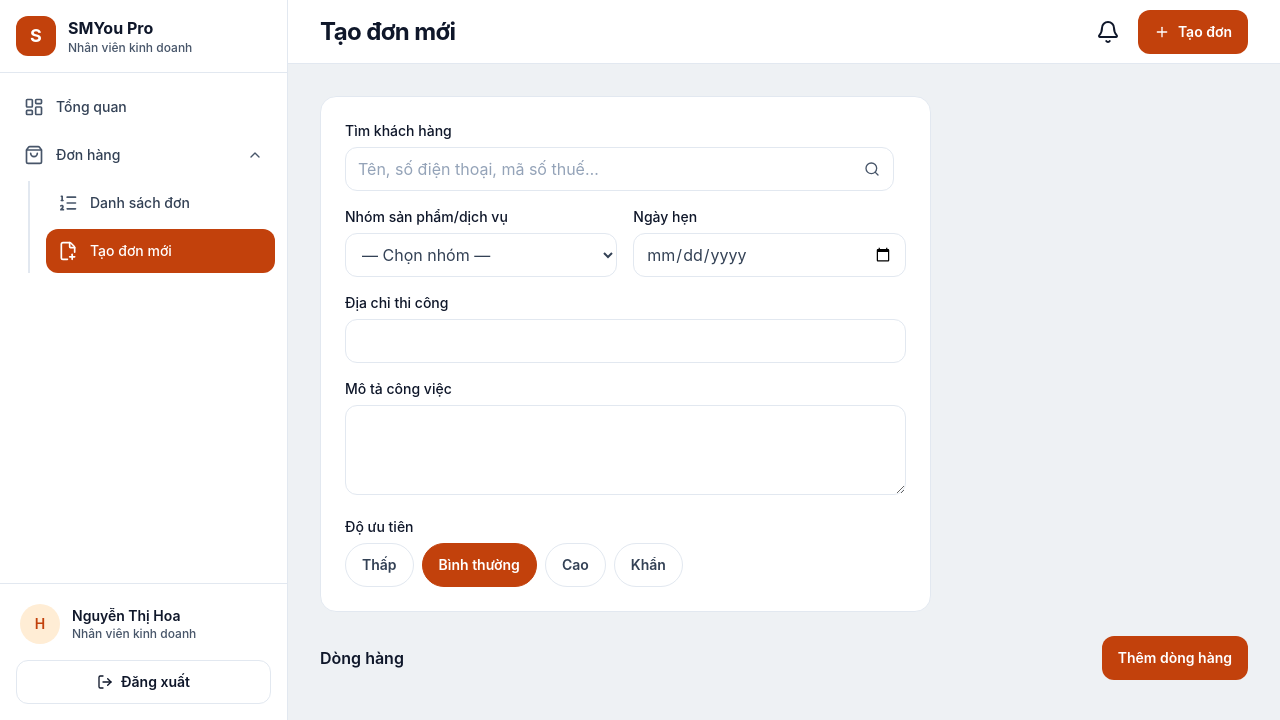
Test case: AC-ORD-158..166 disable Lưu nháp/Gửi đơn khi thiếu thông tin › AC-ORD-160 có 1 dòng hàng, chưa chọn khách → disabled, helper chỉ thiếu khách hàng
Click the button "Thêm dòng hàng": (1175, 658) [1102,636,1248,680]
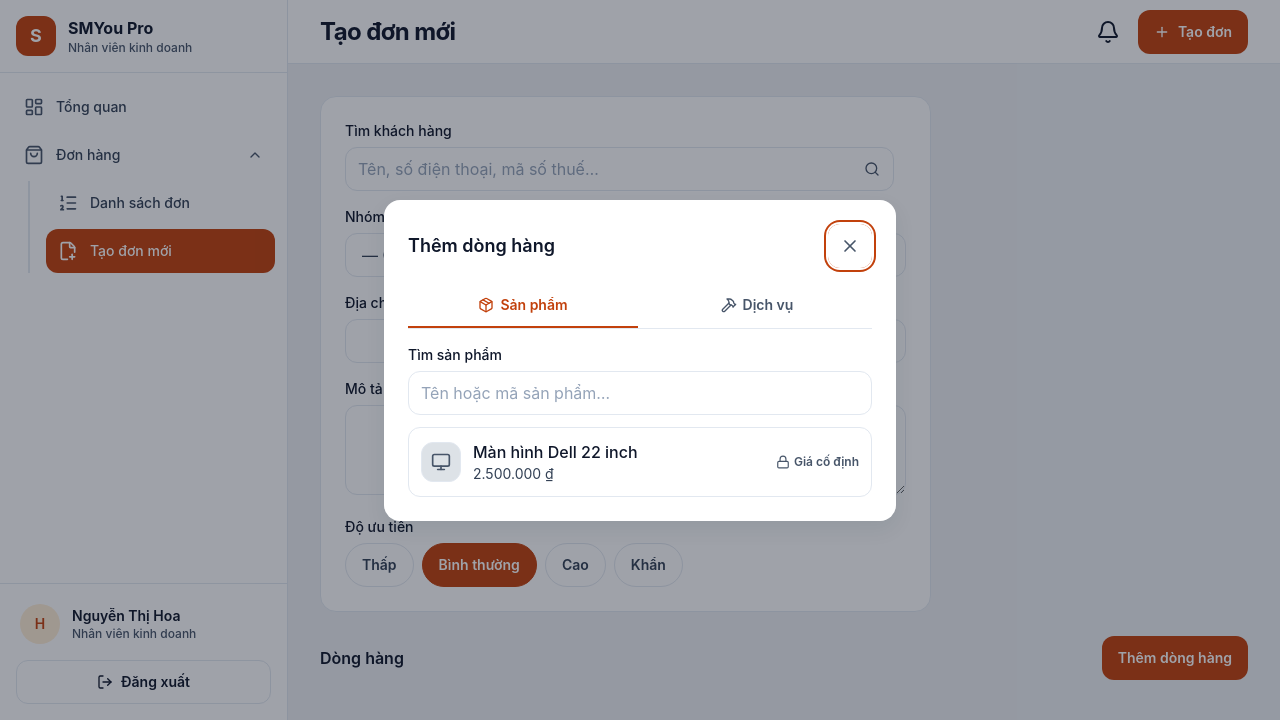
In the field labelled "Tìm sản phẩm": (640, 392) [408,370,872,414], type "dell"
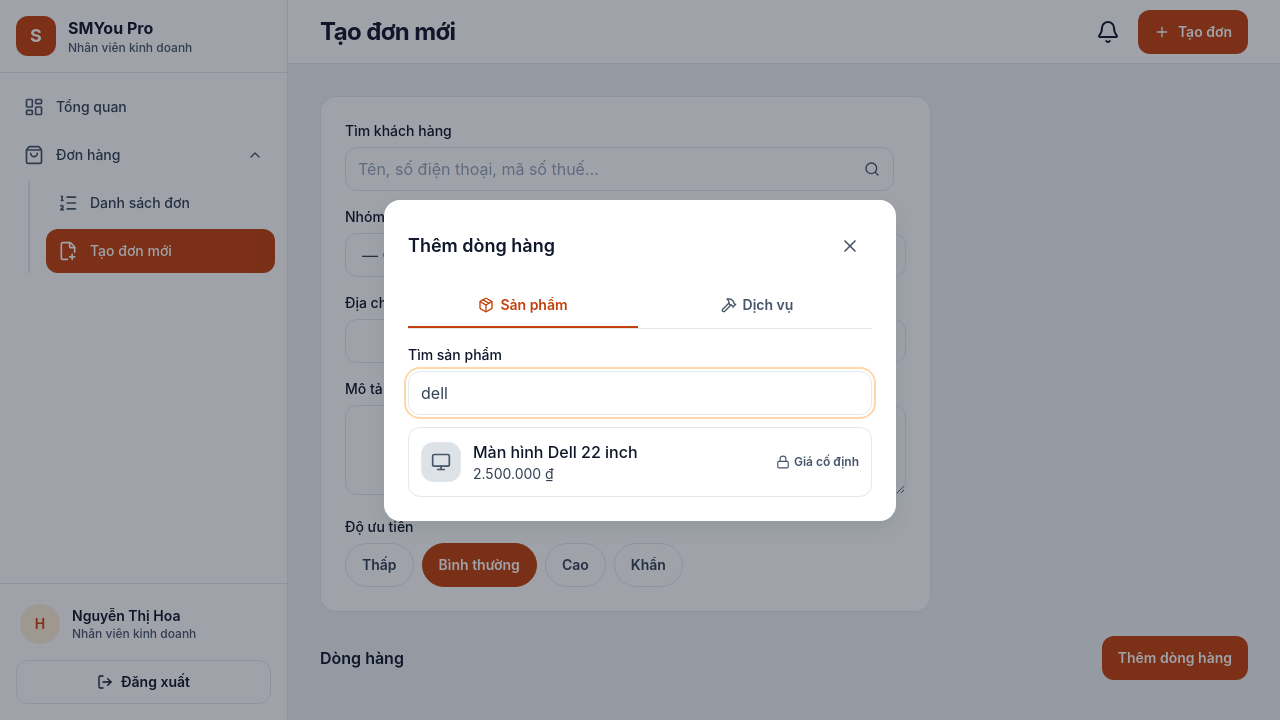
Click the button "Màn hình Dell 22 inch 2.500.000 ₫ Giá cố định": (640, 462) [408,426,872,496]
(page scrolled)
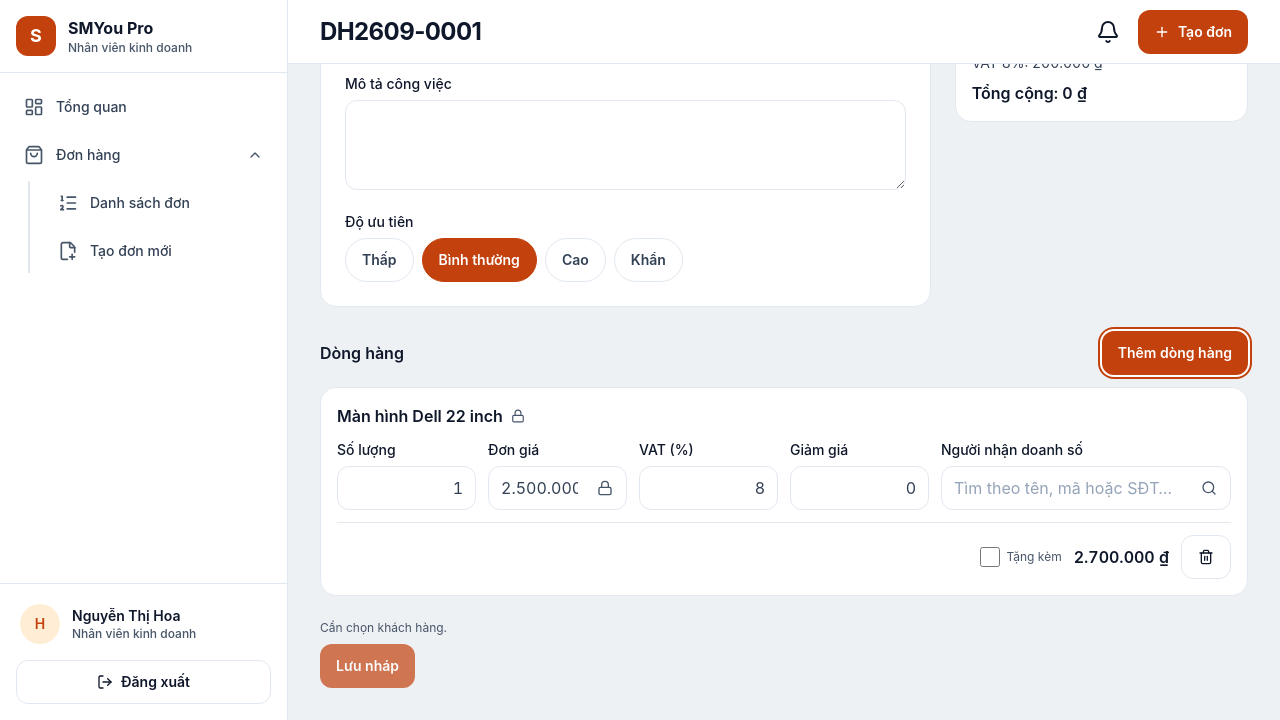
Check: the text "Màn hình Dell 22 inch" is shown, box [337,404,503,428]
Check: the button "Lưu nháp" is disabled, box [320,644,415,688]
Check: the text "Cần chọn khách hàng." is shown, box [320,620,447,635]
